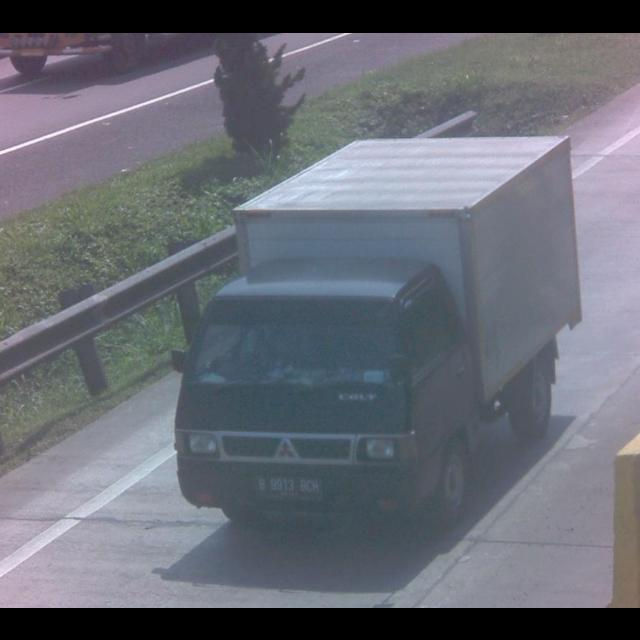plate: (253, 471, 320, 497)
